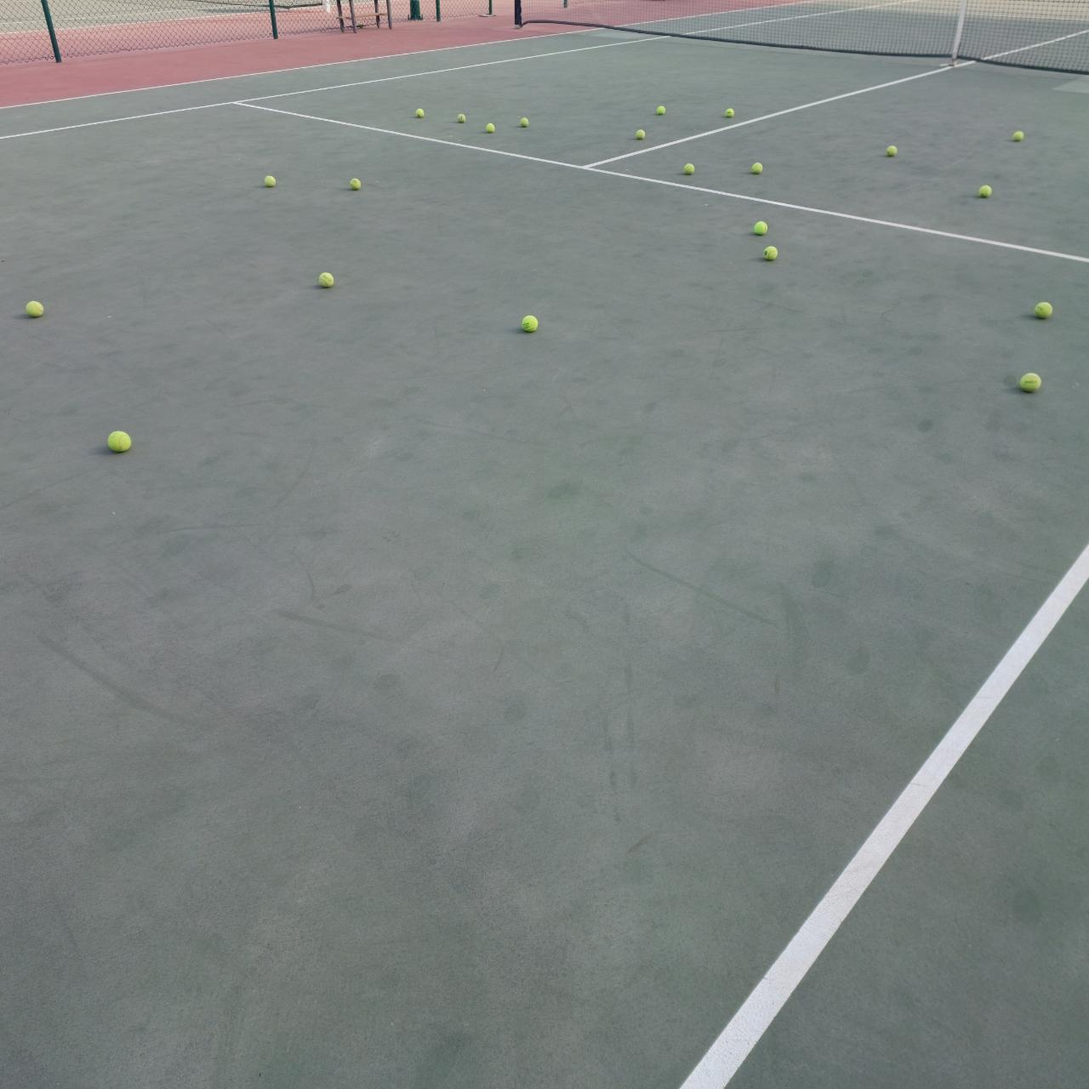tennis-ball: (108, 428, 134, 453), (1019, 370, 1043, 392), (26, 298, 45, 317), (1035, 299, 1054, 318), (522, 312, 540, 332), (318, 271, 335, 288), (753, 220, 770, 236), (763, 245, 778, 261), (979, 183, 994, 197), (349, 177, 362, 191), (682, 162, 696, 175), (885, 144, 898, 157), (264, 175, 276, 188), (751, 162, 763, 174), (1012, 131, 1024, 142), (485, 122, 496, 133), (636, 129, 646, 140), (657, 105, 666, 116), (520, 117, 529, 128), (725, 108, 734, 118), (416, 108, 425, 118), (457, 113, 465, 124)
